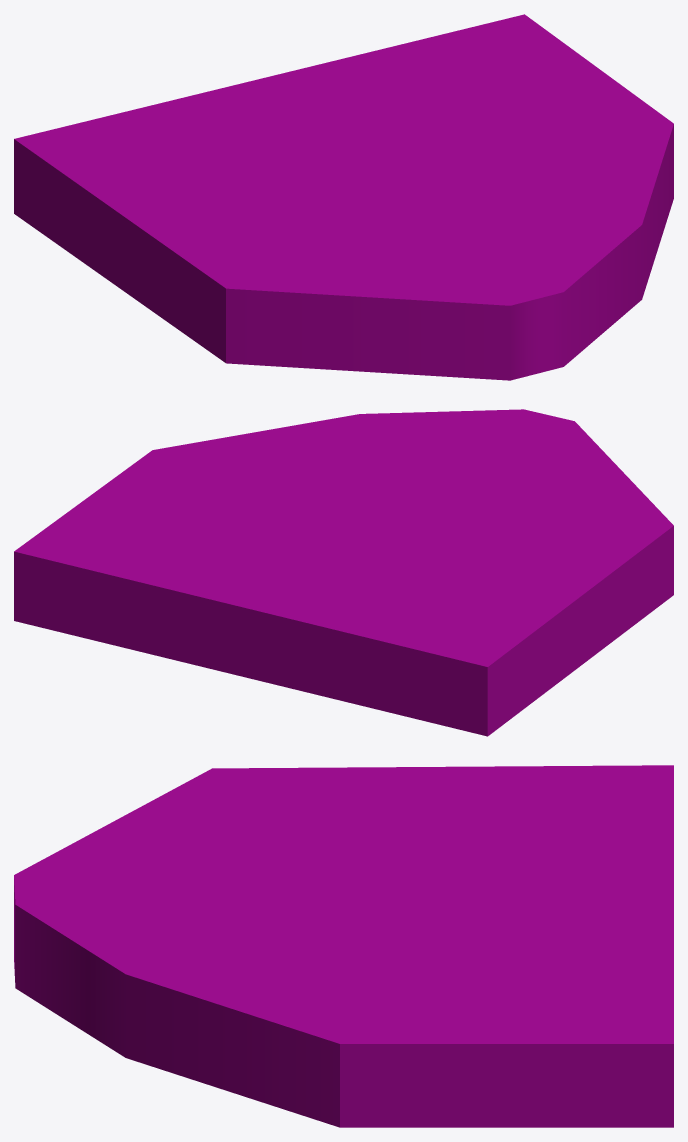
The model's file is Collider_Broken_Ceiling_001.fbx.
The picture shows the model from 3 angles, top to bottom: view 1: azimuth 30°, elevation 25°; view 2: azimuth 150°, elevation 25°; view 3: azimuth 270°, elevation 25°; orthographic projection. The views are drawn at different scales.
Visible parts, largest first — view 1: Collider_Broken_Ceiling_001; view 2: Collider_Broken_Ceiling_001; view 3: Collider_Broken_Ceiling_001.
Boxes of the visible parts, x1,y1,x2,y2 form: Collider_Broken_Ceiling_001: (14,14,673,380); Collider_Broken_Ceiling_001: (14,409,673,736); Collider_Broken_Ceiling_001: (14,765,673,1127).
Size of the model in its own units: 3.02 by 0.4224 by 3.02.
